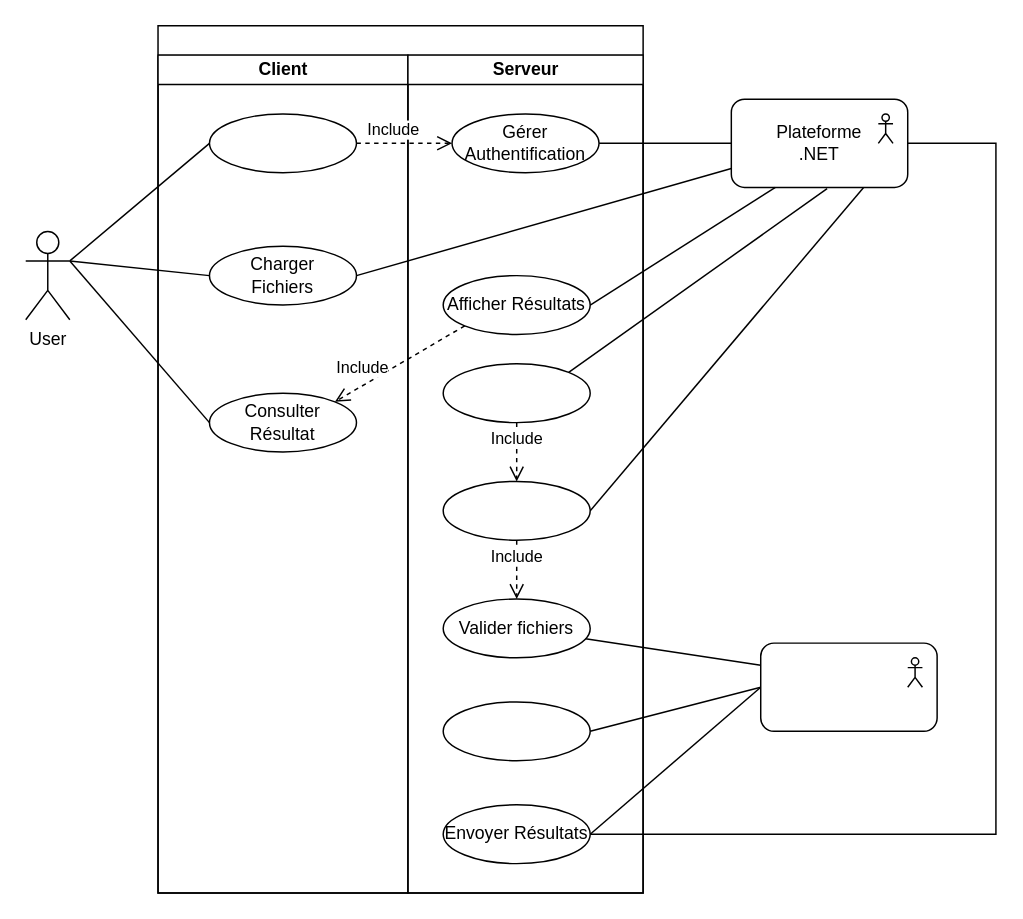
Image size: 1023x919. Some labels were removed from this diagram. Here are the shapes that lost their labels. From the top down, the centre of each, then its label:
At (x=282, y=142): "Login".
At (x=516, y=392): "Déchiffrer Fichiers".
At (x=516, y=510): "Envoi Fichiers Déchiffré et Clé".
At (x=848, y=686): "Plateforme Java EE".
At (x=516, y=730): "Calcul taux de confiance".
